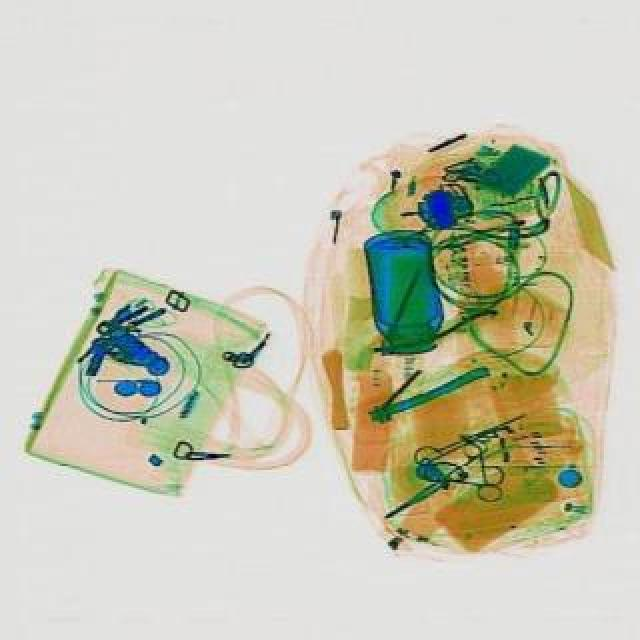pliers: (366, 428, 510, 540)
